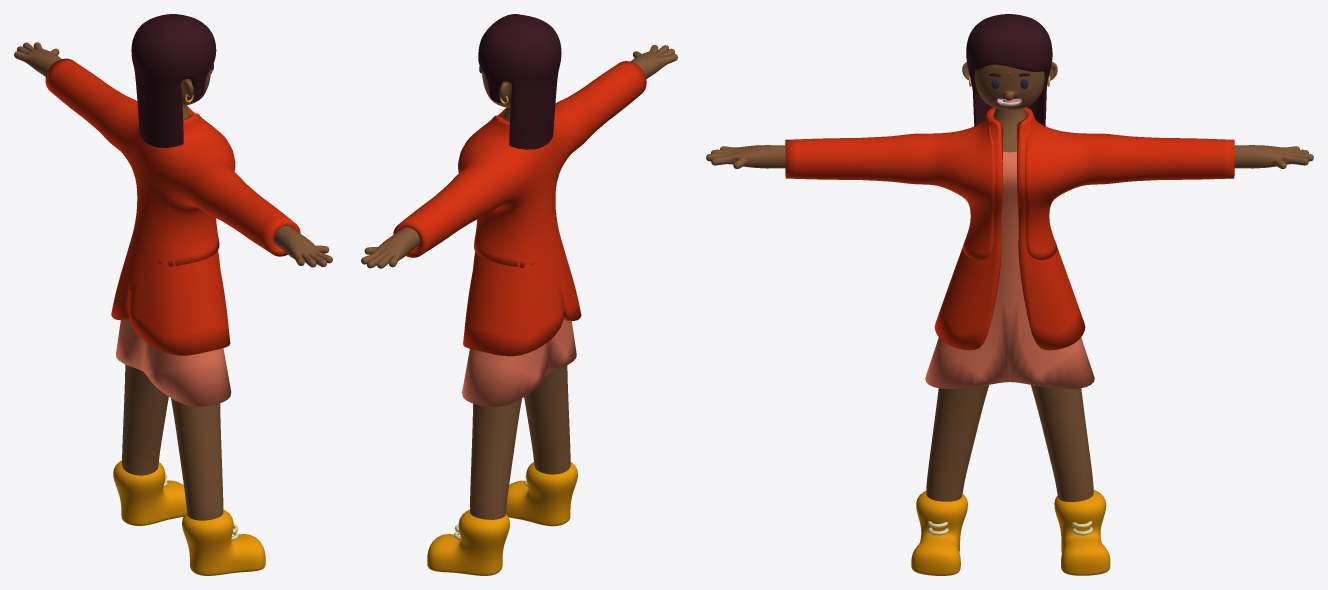
Rendered from female2 1.fbx.
3 views of the same model, side by side, from view 1: azimuth 30°, elevation 25°; view 2: azimuth 150°, elevation 25°; view 3: azimuth 270°, elevation 25° (orthographic).
Parts seen in each view (by area): view 1: body.002, body, hair, body.001, shoe_l, shoe_r; view 2: body.002, body, hair, body.001, shoe_r, shoe_l; view 3: body.002, body, body.001, hair, shoe_r, shoe_l, head.
Part boxes in pixels (x1,y1,x2,y2): body.002: (45,58,300,355); body: (14,42,332,520); hair: (131,14,216,147); body.001: (116,319,231,406); shoe_l: (182,509,265,575); shoe_r: (113,460,186,525); body.002: (393,61,646,356); body: (361,45,677,519); hair: (478,14,561,149); body.001: (462,320,576,407); shoe_r: (427,509,509,575); shoe_l: (506,462,577,526); body.002: (785,107,1234,350); body: (706,108,1313,501); body.001: (925,151,1094,388); hair: (966,14,1052,126); shoe_r: (1054,490,1110,575); shoe_l: (911,491,967,575); head: (974,64,1044,110).
Bounding box in the file's own units: 54.05 × 277 × 287.
